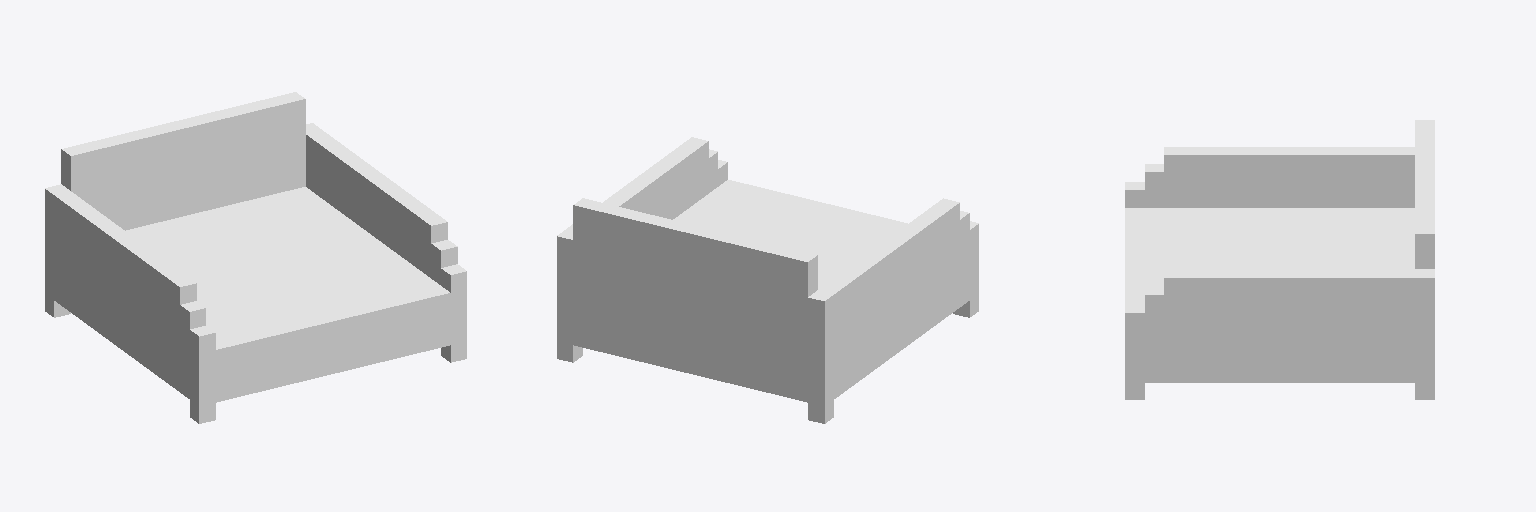
File: chair2.obj
3 renders of one model, left to right at view 1: azimuth 30°, elevation 25°; view 2: azimuth 150°, elevation 25°; view 3: azimuth 270°, elevation 25°, orthographic.
Size of the model in its own units: 0.8 by 0.45 by 0.8.